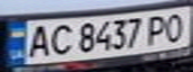3: (109, 17, 130, 51)
4: (93, 18, 115, 52)
7: (124, 15, 148, 48)
8: (75, 19, 96, 53)
A: (21, 24, 54, 58)
C: (45, 21, 75, 56)
O: (160, 10, 190, 43)
P: (142, 12, 172, 46)
